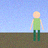person: (30, 11, 43, 41)
